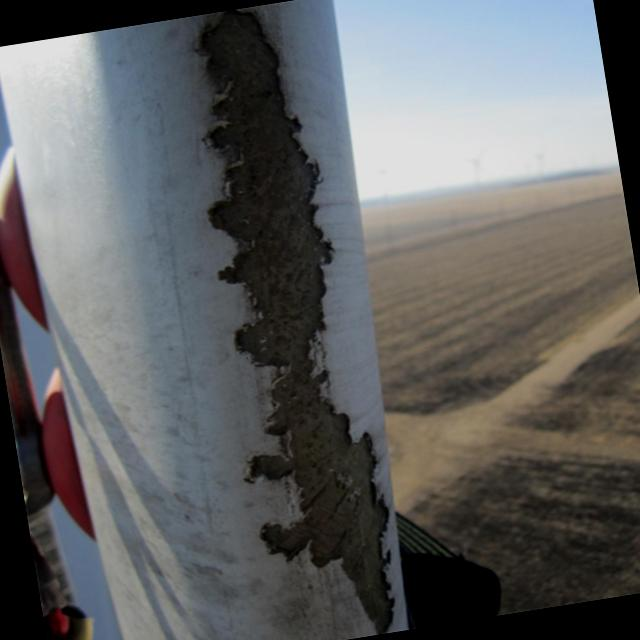corrosion: (182, 4, 407, 638)
